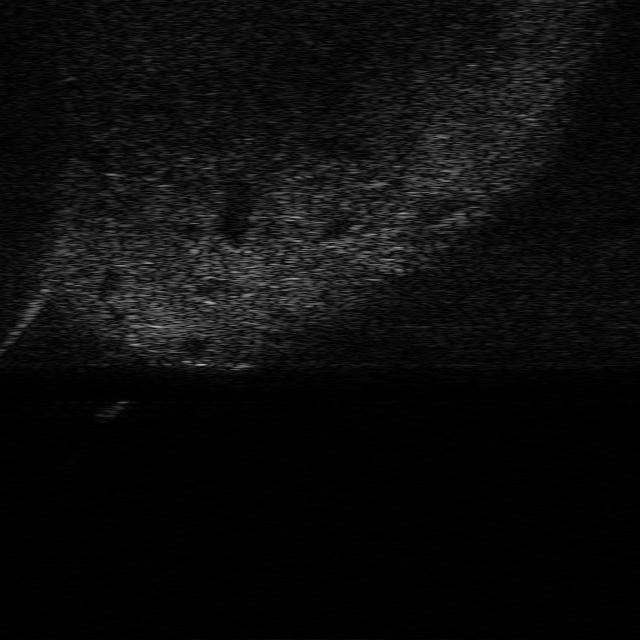cylinder: (90, 398, 131, 421)
